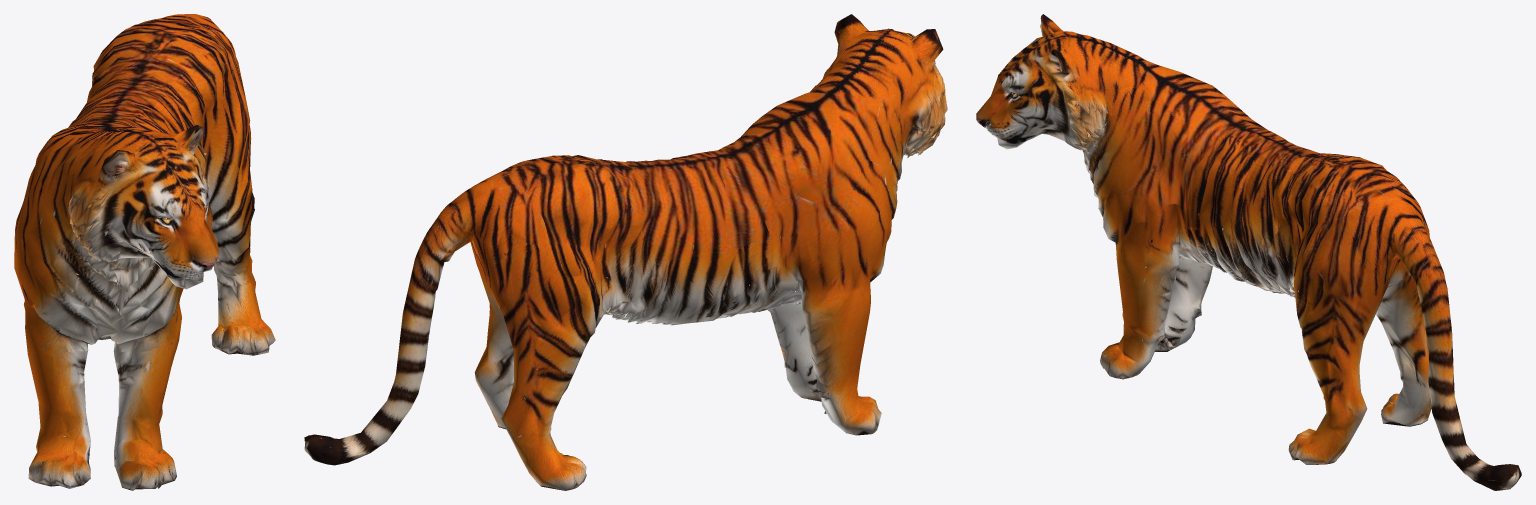
Rendered from tiger.glb.
3 views of the same model, side by side, from view 1: azimuth 30°, elevation 25°; view 2: azimuth 150°, elevation 25°; view 3: azimuth 270°, elevation 25° (orthographic). The views are drawn at different scales.
Parts seen in each view (by area): view 1: tiger; view 2: tiger; view 3: tiger.
Boxes of the visible parts, x1,y1,x2,y2 form: tiger: (14,14,275,490); tiger: (304,14,947,490); tiger: (976,14,1521,490).
Bounding box in the file's own units: 1.47 × 1.24 × 1.9.
1 material, 1 textured.
